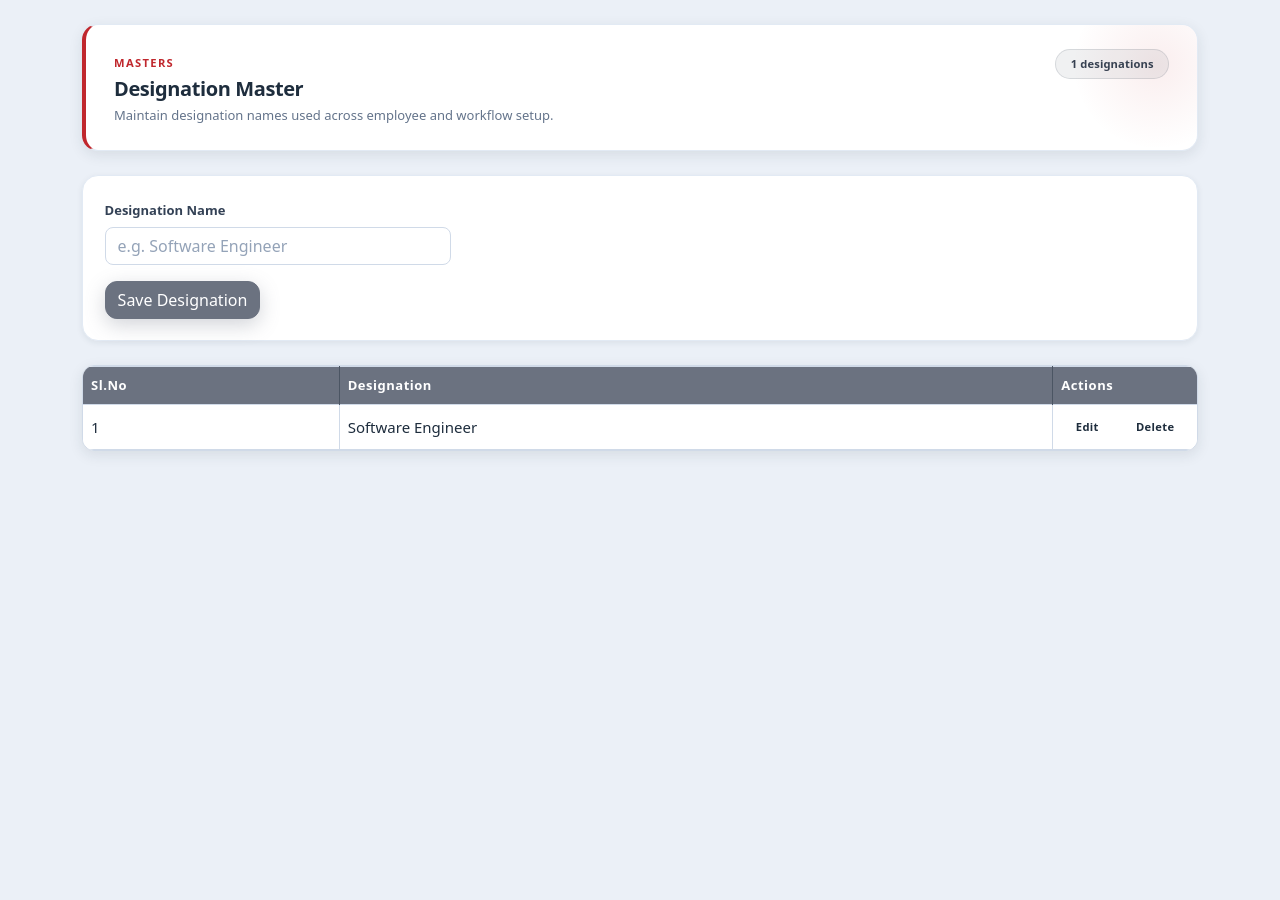
Test case: delete designation › Cancel closes the dialog without deleting
This screenshot has width=1280, height=900.
Expected: the text "Software Engineer" is shown, 339,405 -> 1053,450
Click the button "Delete".
click(1155, 427)  # box 1121,413 -> 1189,442
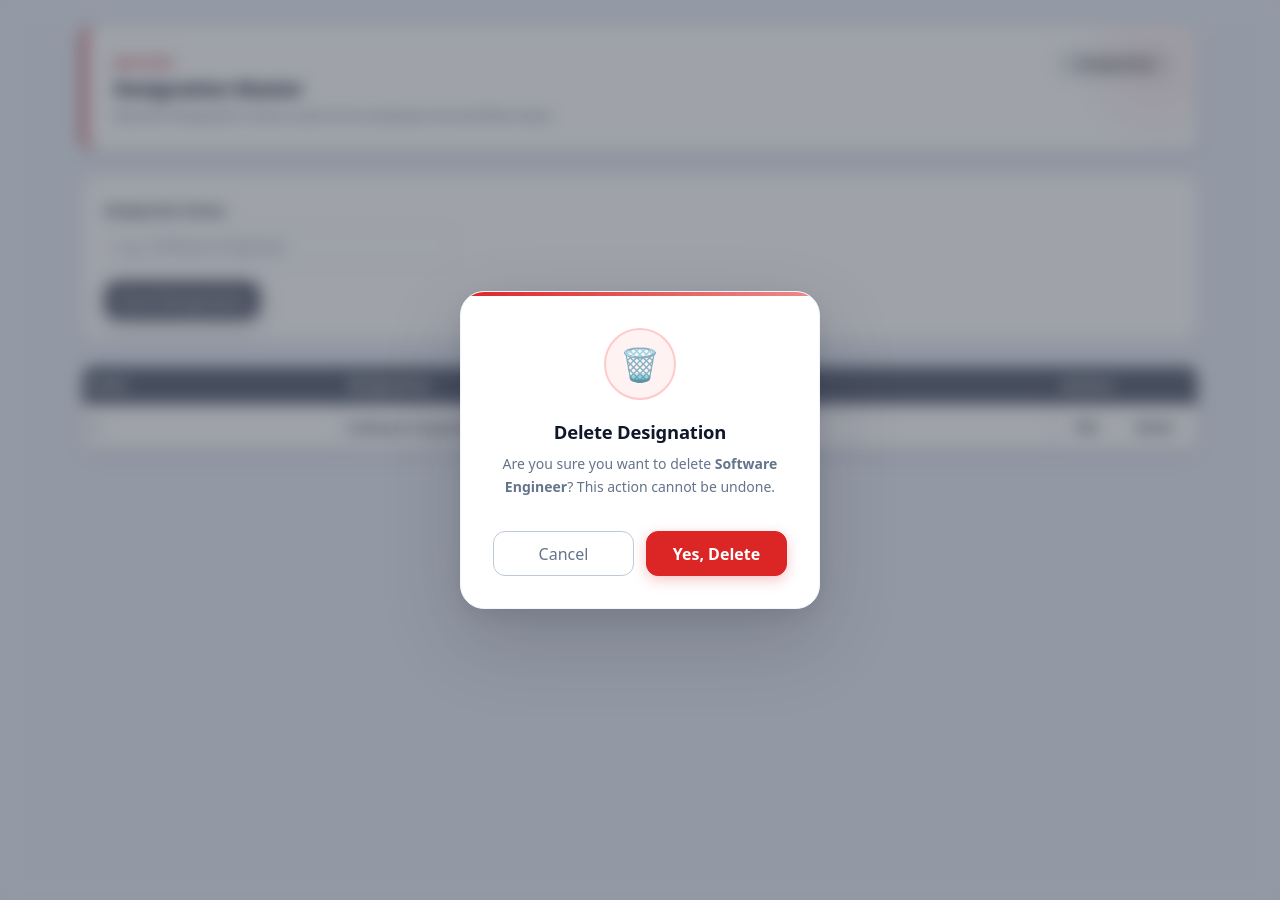
Click the button "Cancel".
click(564, 554)  # box 493,531 -> 634,576
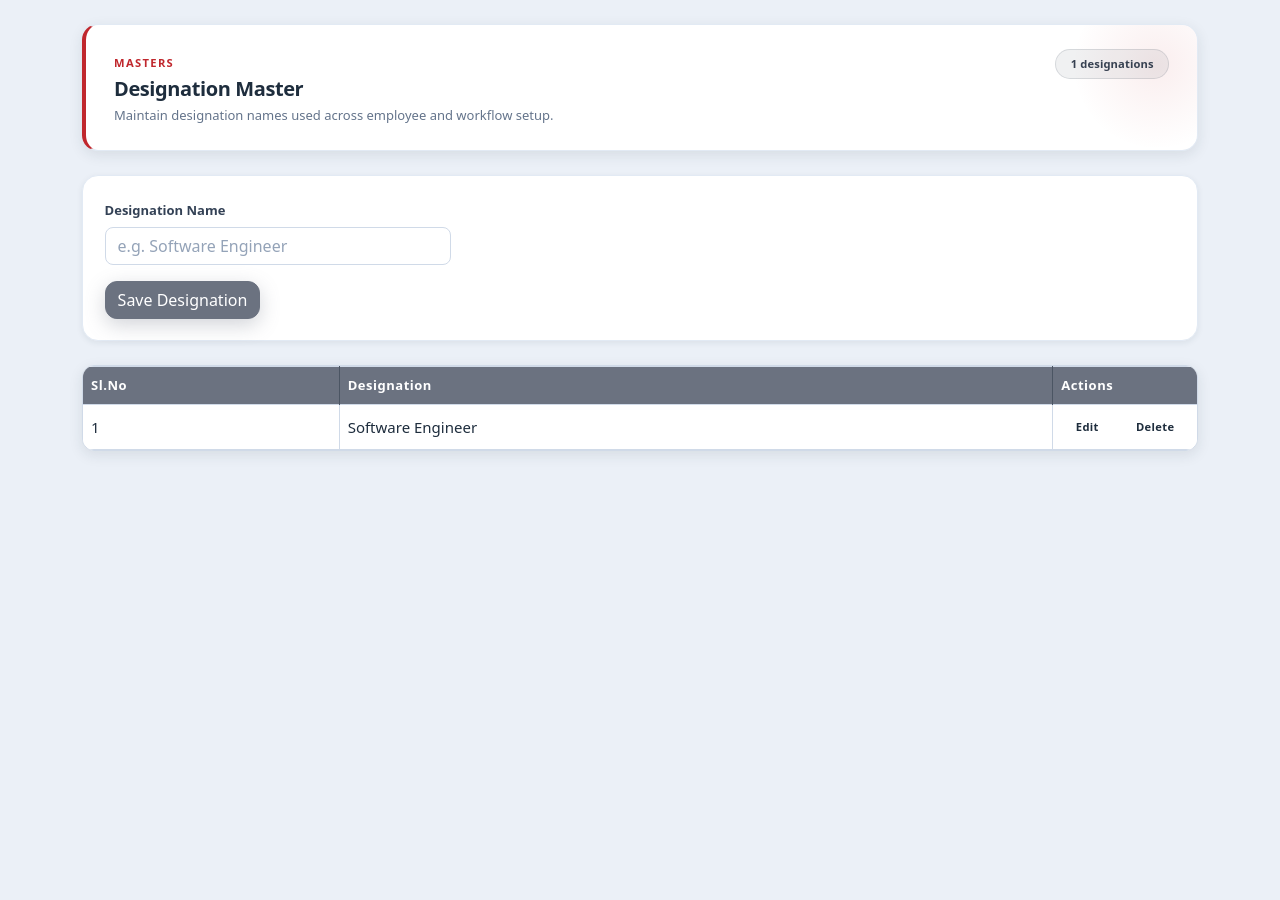
Expected: the dialog is gone
